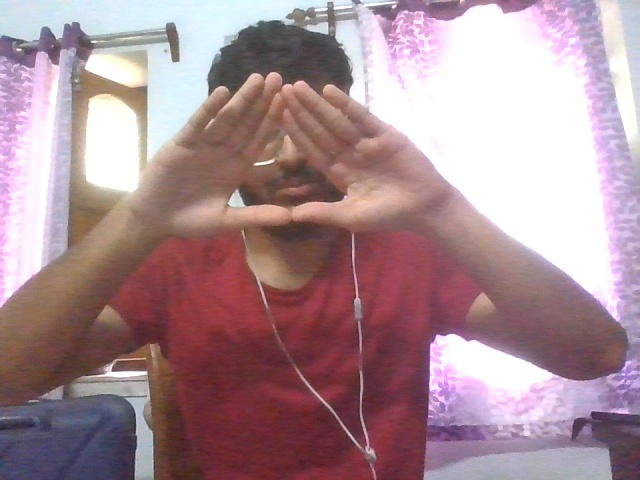ThankYou: (138, 72, 435, 237)
